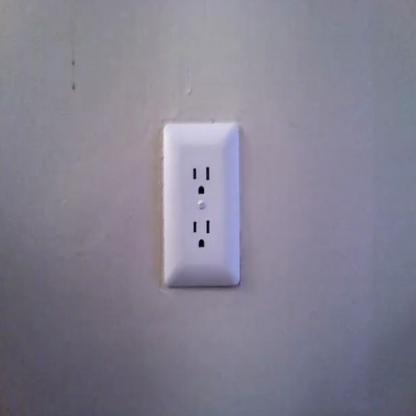OUTLET: (162, 122, 242, 289)
